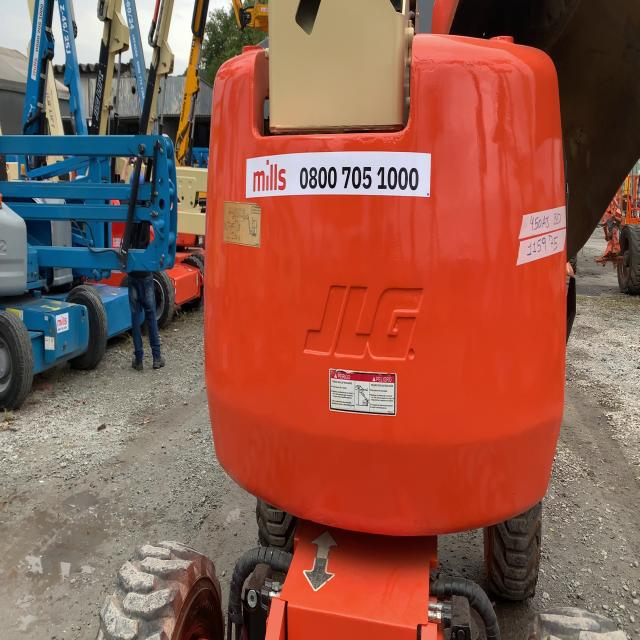Adesivo Longo: (244, 148, 434, 204)
